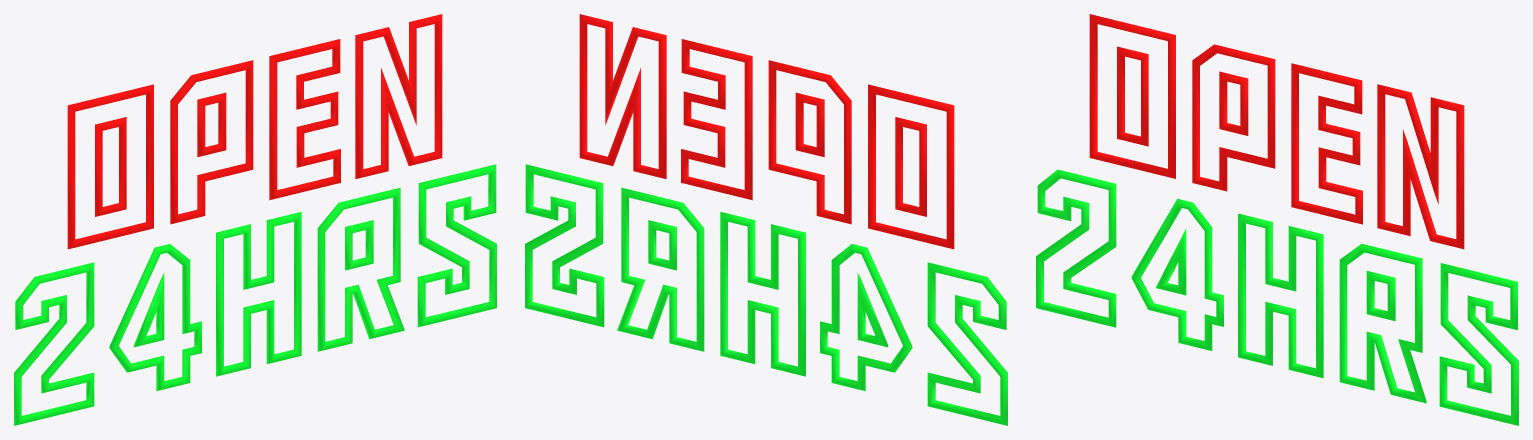
The model's file is ecc0d0aa-f6cd-4d0c-91d7-b49d12c81c86.glb.
The picture shows the model from 3 angles, left to right: view 1: azimuth 30°, elevation 25°; view 2: azimuth 150°, elevation 25°; view 3: azimuth 330°, elevation 25°; orthographic projection.
Visible parts, largest first — view 1: NeonSignOpen24Hrs; view 2: NeonSignOpen24Hrs; view 3: NeonSignOpen24Hrs.
Boxes of the visible parts, bbox=[...] form: NeonSignOpen24Hrs: bbox=[14, 14, 496, 425]; NeonSignOpen24Hrs: bbox=[525, 14, 1007, 425]; NeonSignOpen24Hrs: bbox=[1036, 14, 1518, 425].
Bounding box in the file's own units: 1.04 × 0.6323 × 0.0145.
Materials: 1 (1 with a texture image).
